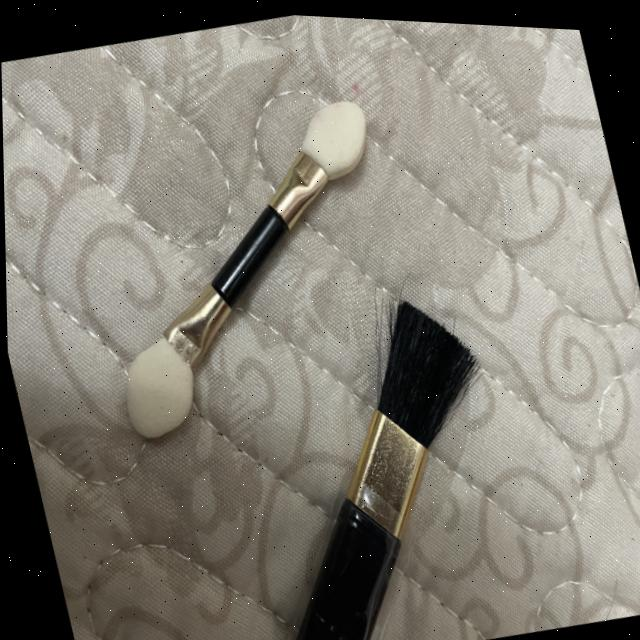beauty blender: (29, 45, 445, 466)
brush: (269, 247, 549, 640)
